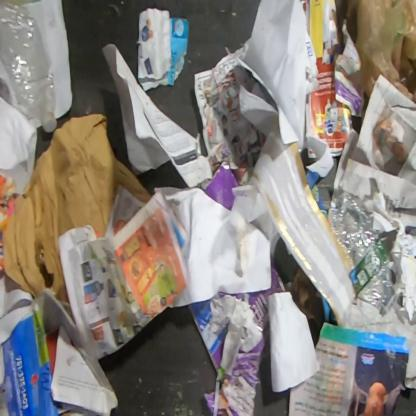cardboard: (229, 258, 289, 362), (186, 298, 230, 373), (204, 161, 240, 214)
rigid_plastic: (327, 190, 397, 318), (0, 3, 59, 135)
soft_plastic: (353, 0, 415, 106)
